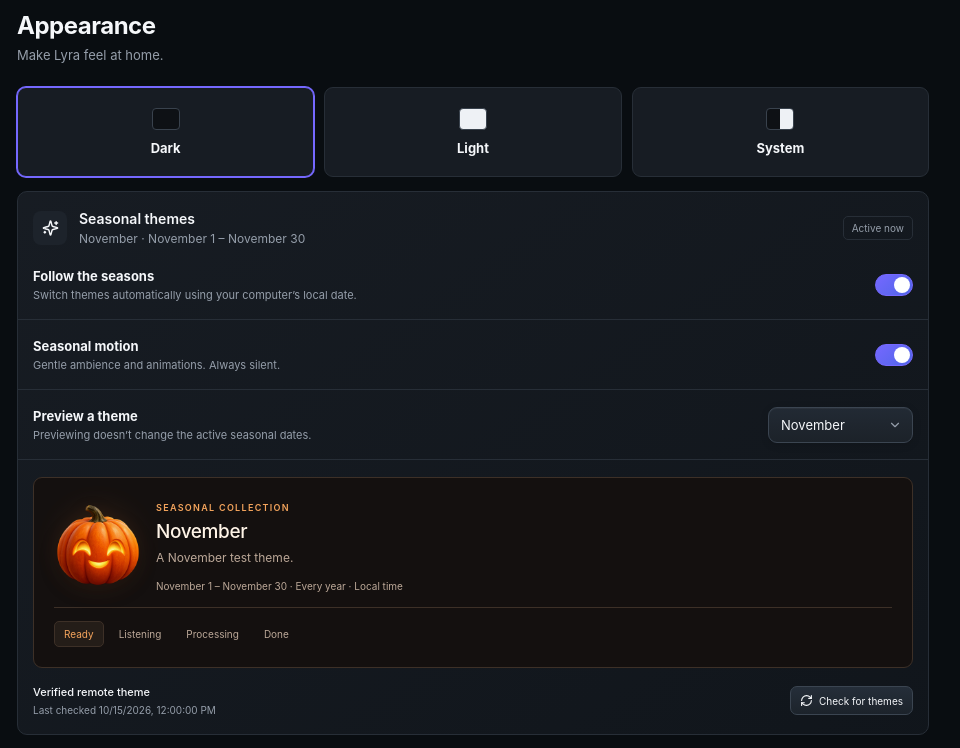
Appearance seasonal preview › keeps the active November heading and remote delivery source while previewing October
Click the button with aria-label "Theme preview" at (842, 424), box [781, 416, 902, 432]
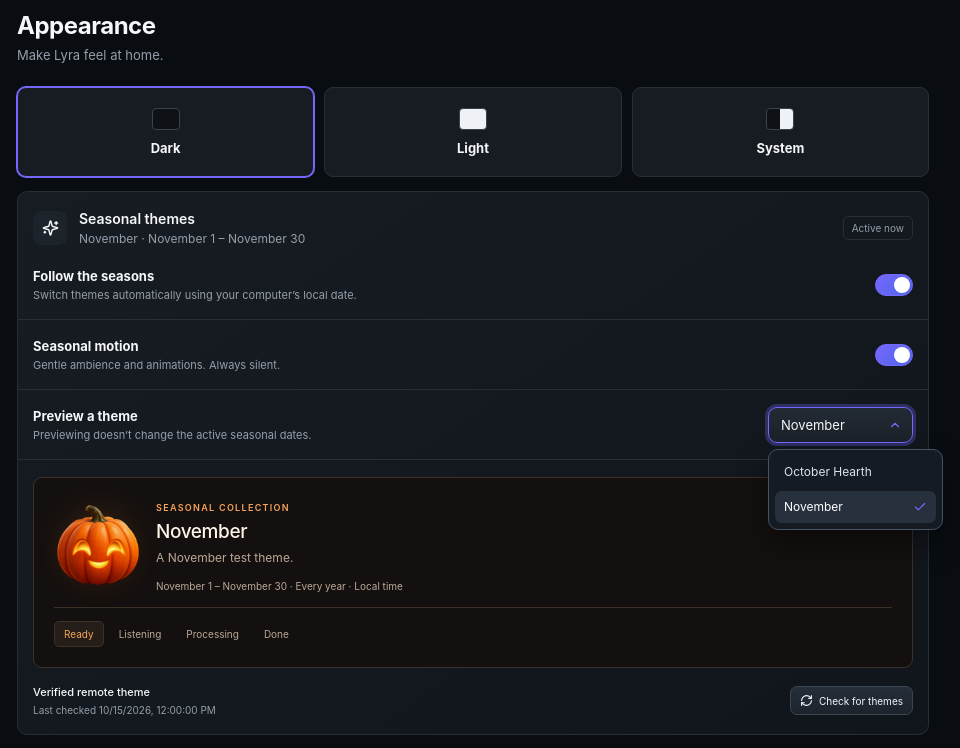
Click the option "October Hearth" at (856, 472), box [775, 456, 936, 488]
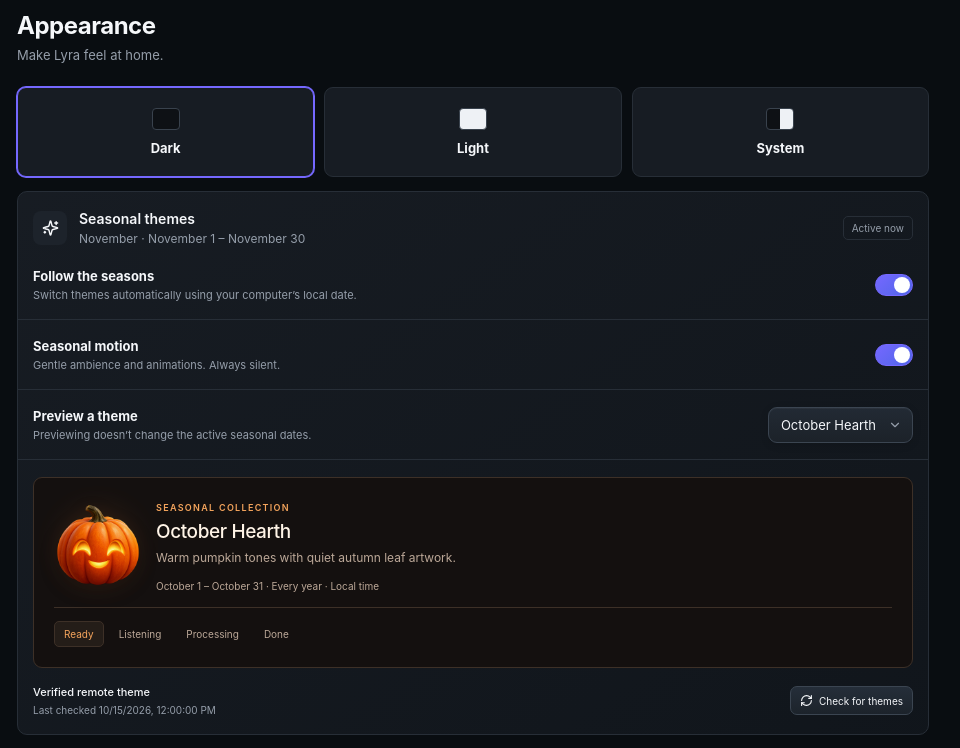
Check: the text "November · November 1 – November 30" is shown, box [79, 231, 305, 246]
Check: the text "October Hearth" is shown, box [781, 416, 876, 432]
